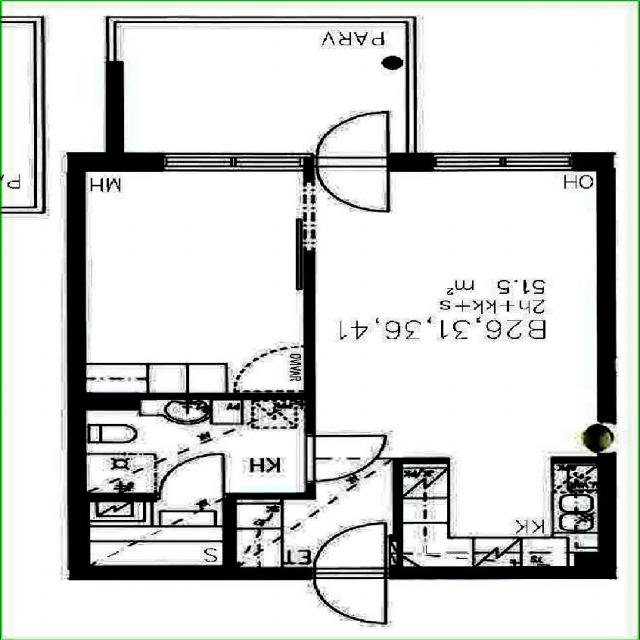door: (317, 107, 387, 171), (317, 152, 387, 216), (314, 520, 387, 579), (314, 566, 387, 624), (304, 436, 386, 480), (160, 454, 221, 501)
